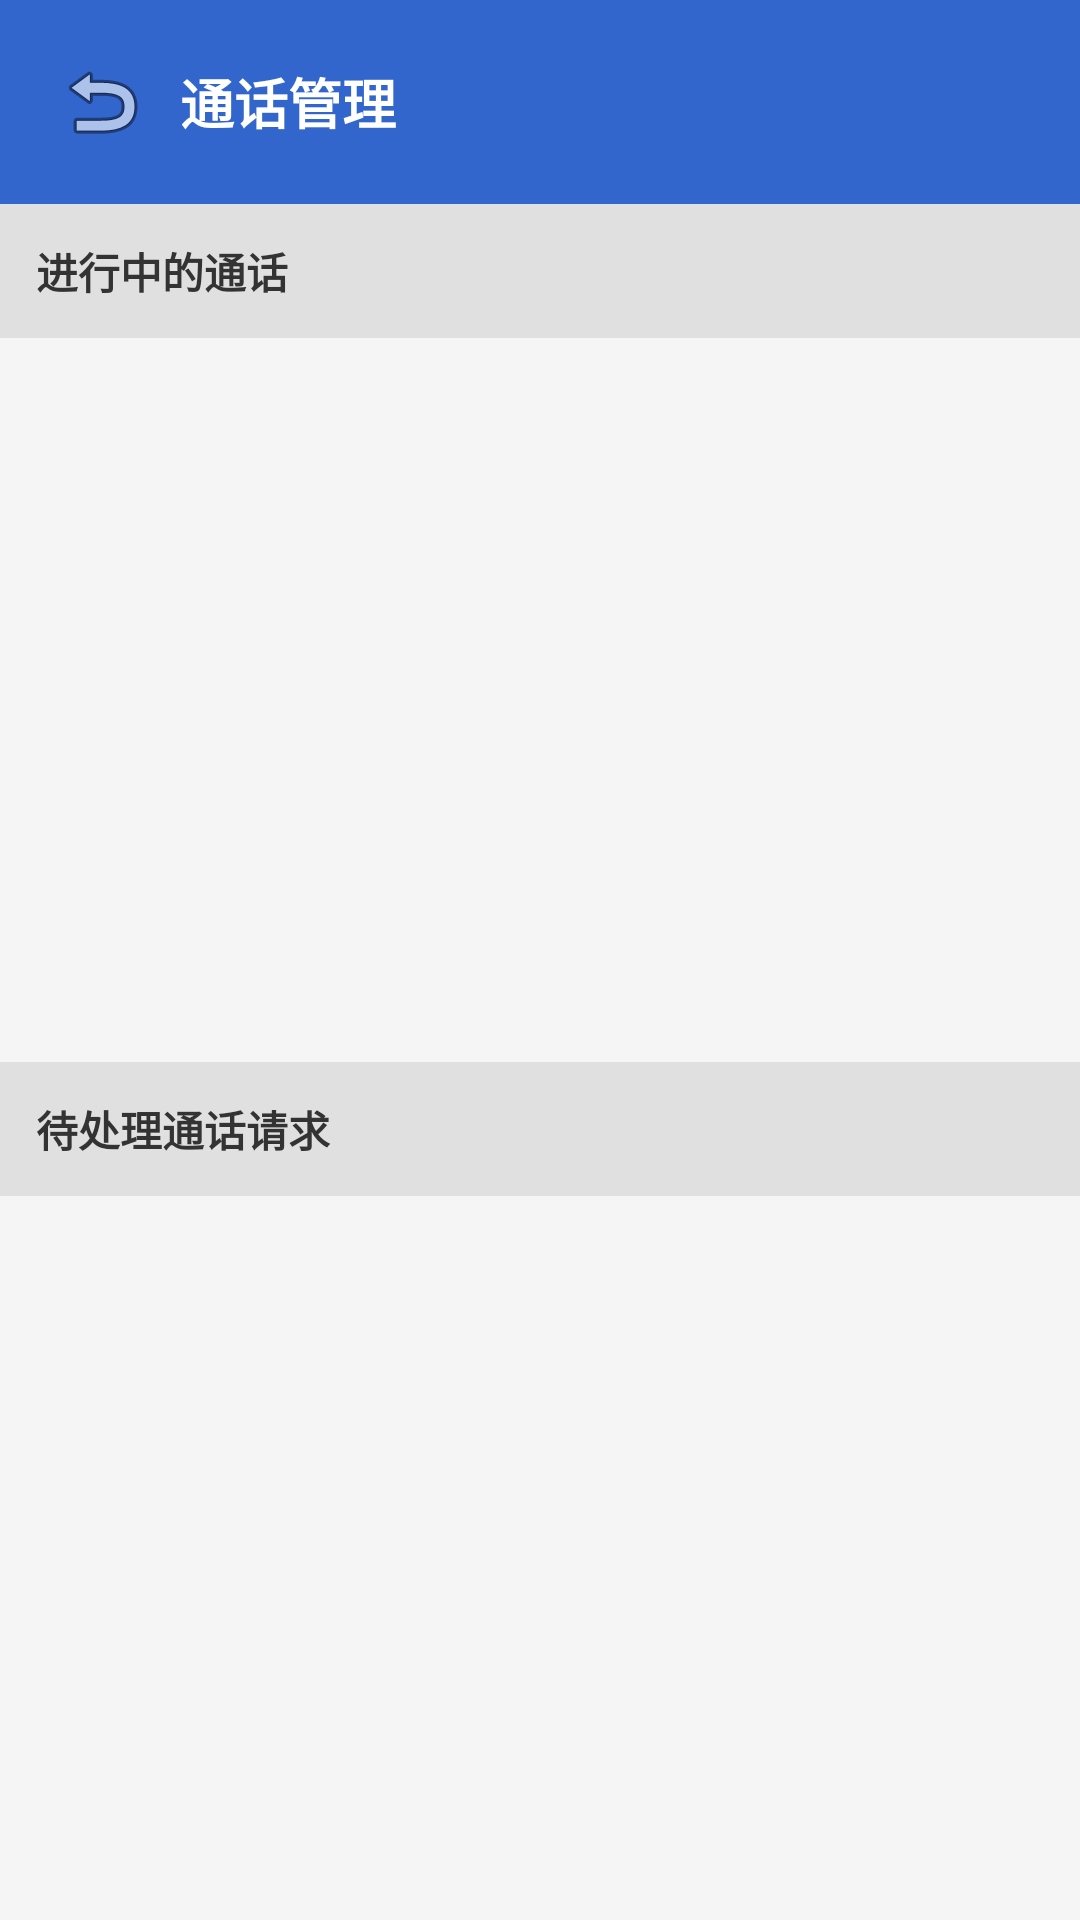

Icon click points for this 1080*1920 phone screenshot, format [x,y]:
返回: [103,102]
